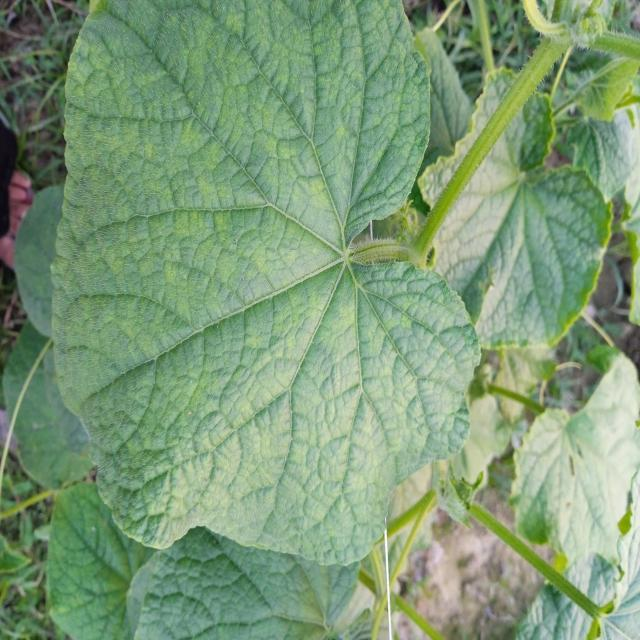cucumber_healthy: (48, 0, 490, 565), (416, 62, 618, 360), (508, 348, 640, 574), (47, 481, 150, 640)
